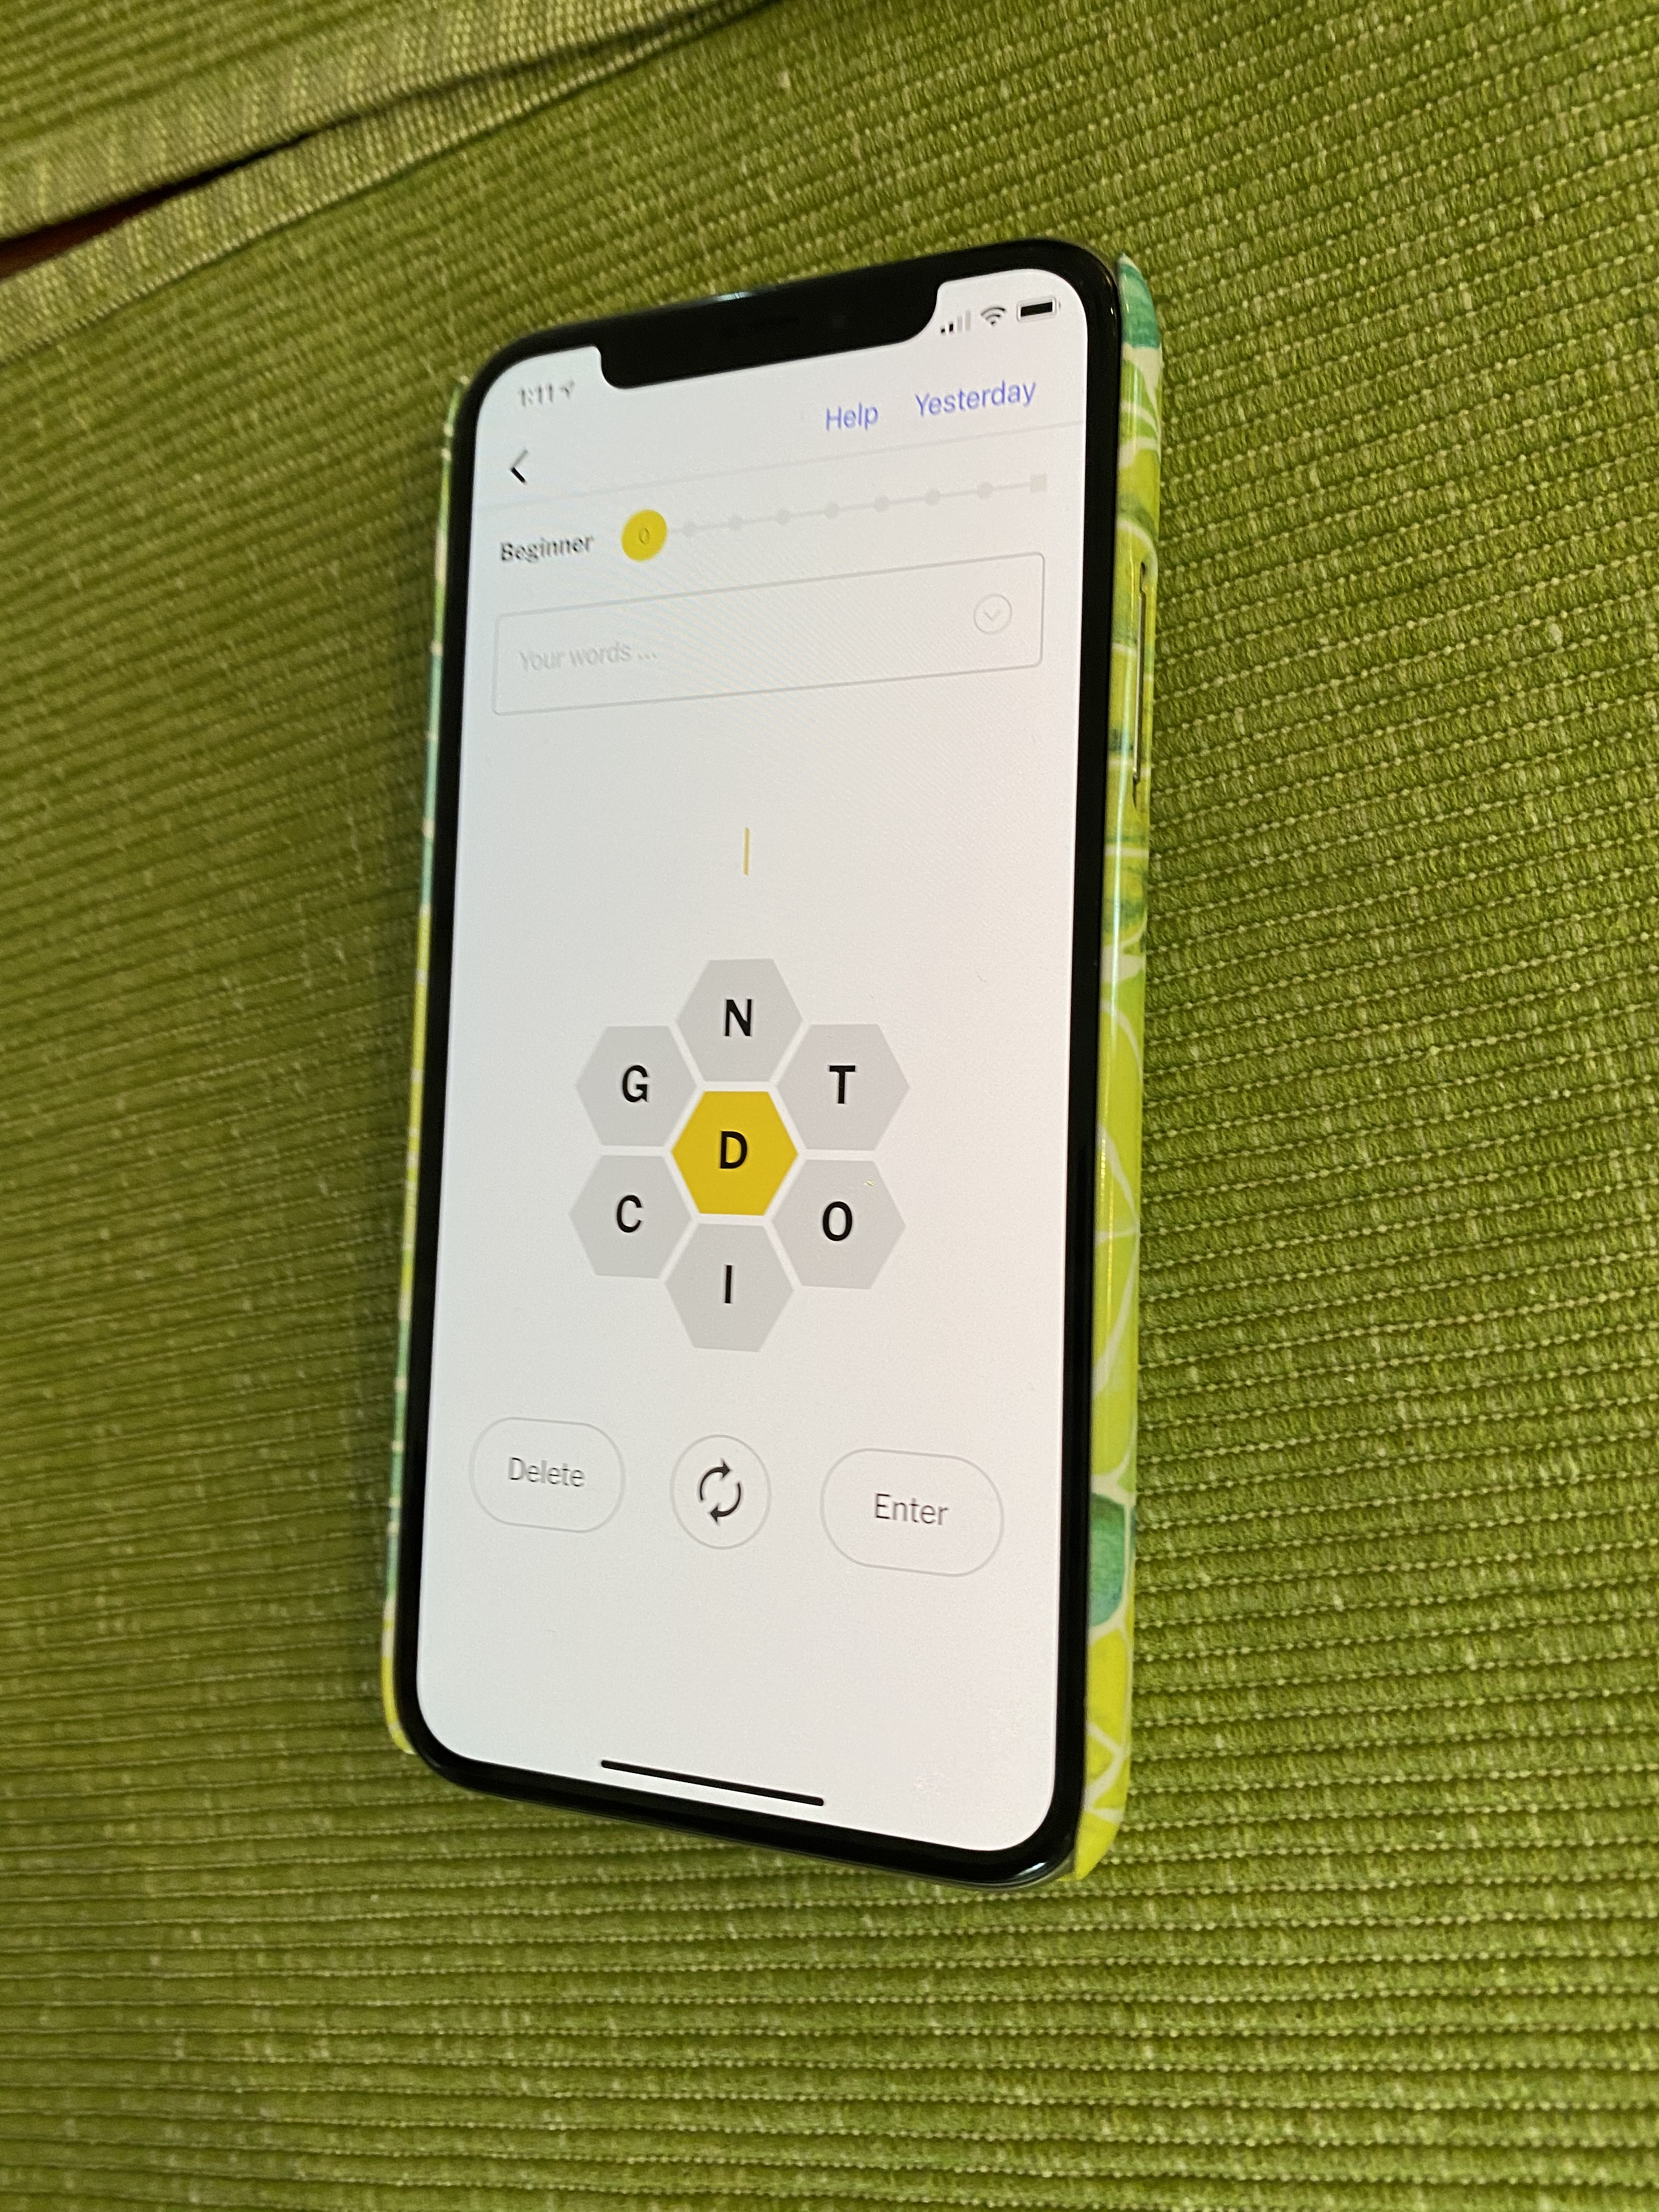Board: (558, 949, 920, 1357)
